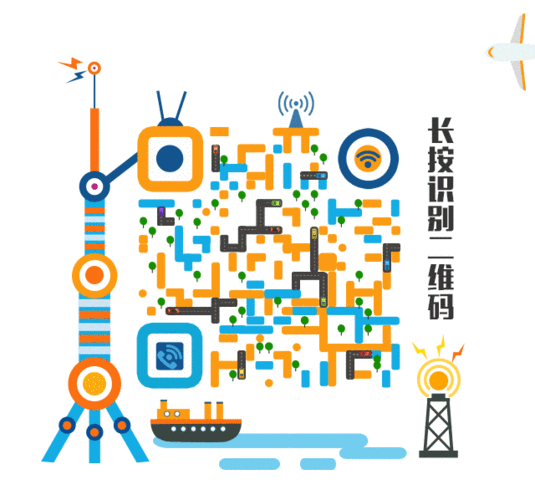QRCode: (137, 122, 406, 401)
